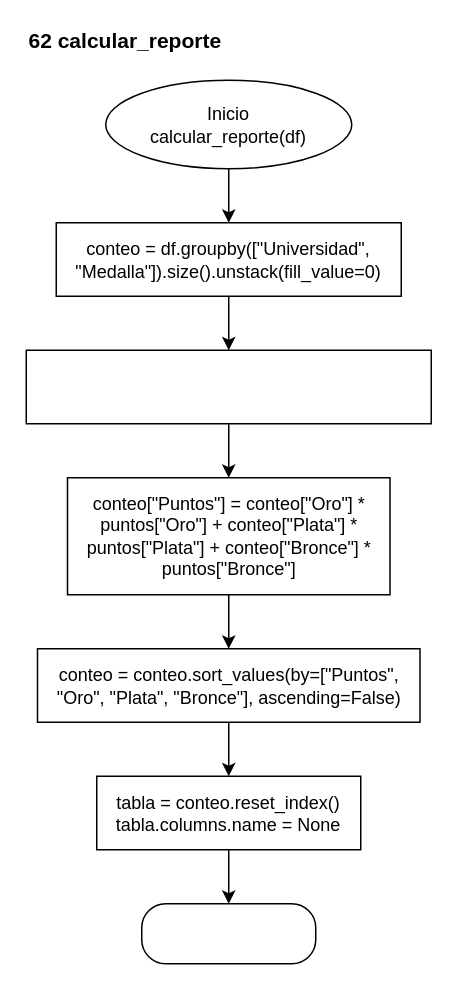
Some shapes in this 458 by 990 pixel diagram are drawn without their labels. The shapes that lost their labels are listed below. From the top down, each one's box as (x1, y1, x2, y2) in pixels, then its label:
(25, 349, 431, 424): conteo = conteo.reindex(columns=posiciones, fill_value=0)
(140, 902, 316, 964): Retornar tabla
